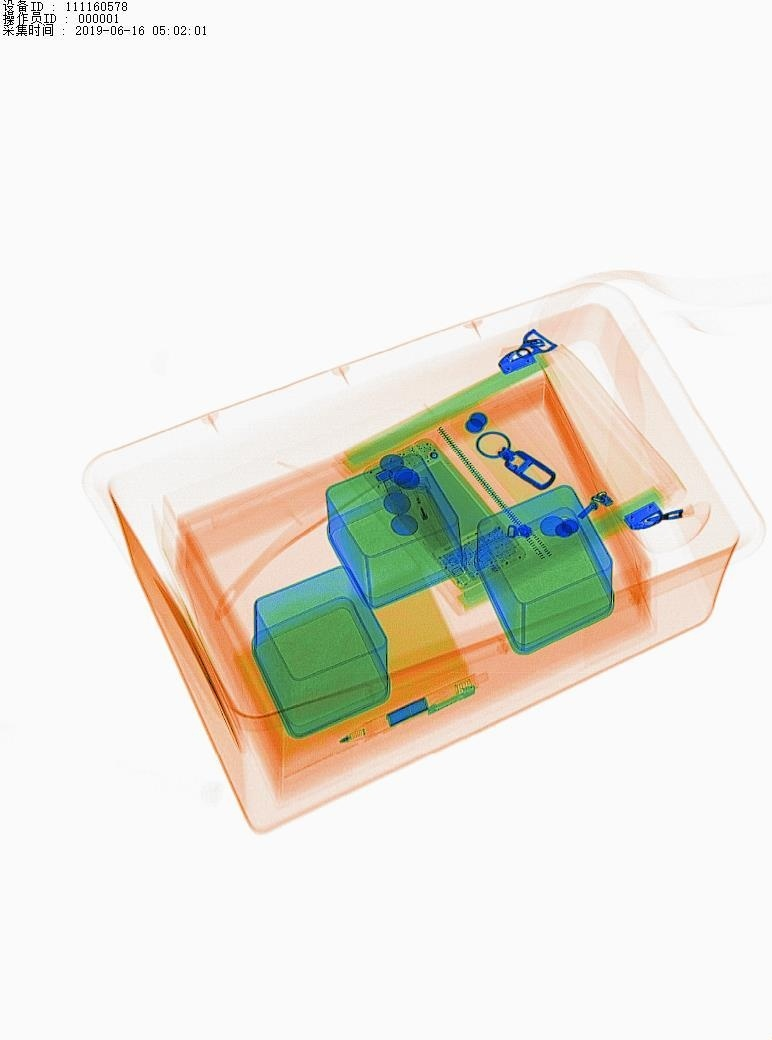NonmetallicFire: (407, 470, 473, 585)
